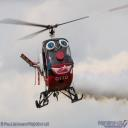helicopter: (6, 18, 91, 105)
